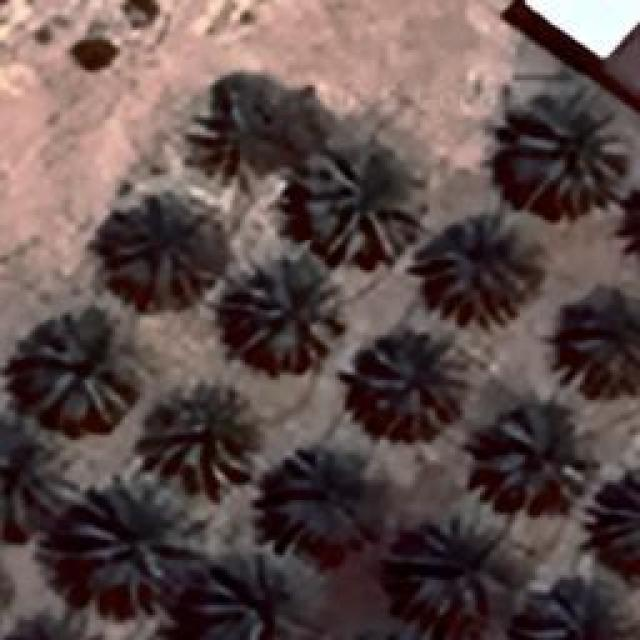PalmTree: (43, 110, 618, 524), (82, 108, 599, 340), (75, 470, 203, 592), (300, 147, 428, 265), (269, 440, 389, 565), (412, 210, 538, 325), (137, 380, 260, 490), (510, 100, 632, 210), (28, 310, 140, 425), (237, 252, 345, 370), (360, 325, 470, 440), (402, 510, 516, 618), (104, 197, 206, 315), (480, 402, 590, 508), (188, 77, 288, 183), (195, 550, 308, 638), (520, 572, 640, 640), (0, 424, 58, 548), (0, 611, 103, 640), (334, 621, 455, 640), (333, 625, 459, 640), (0, 620, 94, 640)
